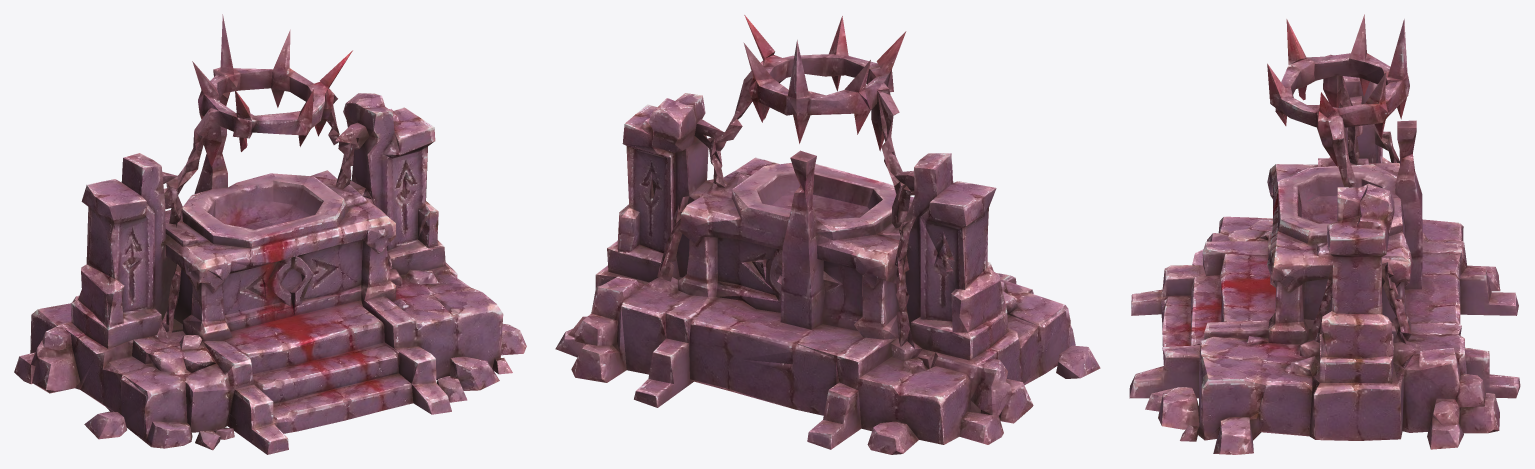
File: shrine_blood.glb
3 renders of one model, left to right at view 1: azimuth 30°, elevation 25°; view 2: azimuth 150°, elevation 25°; view 3: azimuth 270°, elevation 25°, orthographic. The views are drawn at different scales.
Parts seen in each view (by area): view 1: body; view 2: body; view 3: body.
Part boxes in pixels (<box>): body: <box>14,14,526,454</box>; body: <box>555,15,1100,454</box>; body: <box>1129,14,1520,454</box>.
Bounding box in the file's own units: 2.72 × 2 × 2.13.
Materials: 1 (1 with a texture image).
